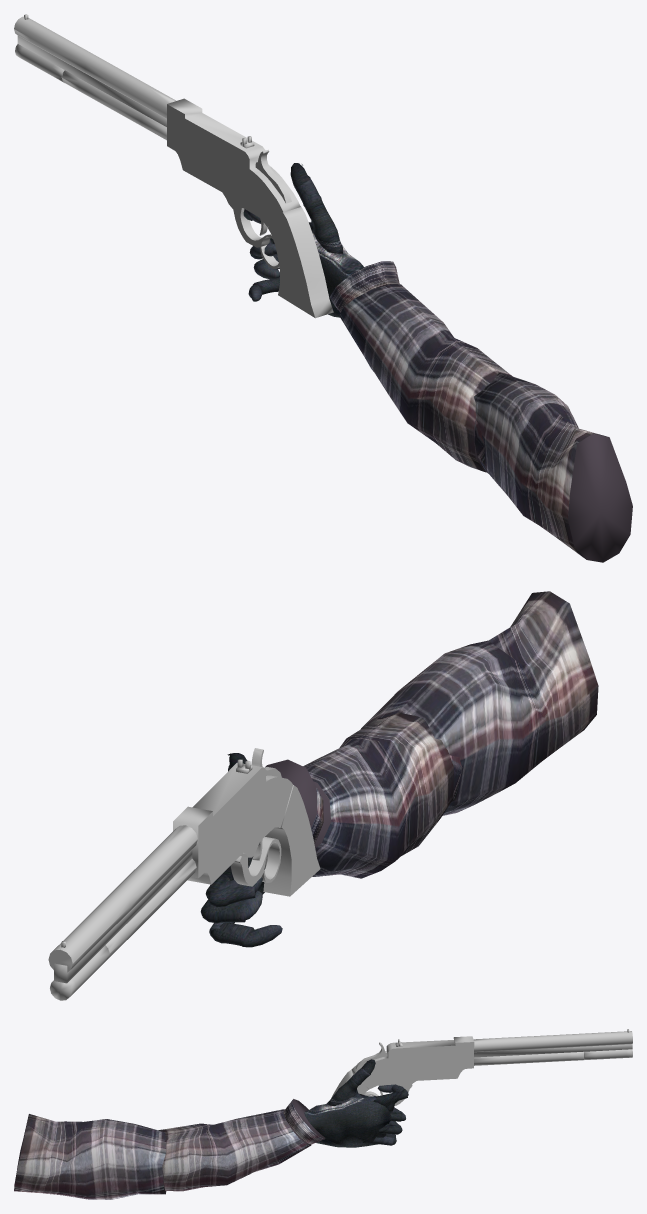
File: volcanic_view.fbx
3 views of the same model, one above another, from view 1: azimuth 30°, elevation 25°; view 2: azimuth 150°, elevation 25°; view 3: azimuth 270°, elevation 25° (orthographic). The views are drawn at different scales.
Visible parts, largest first — view 1: rupperarm, rforearm, volcanic_body, volcanic_barrel, volcanic_grip, rhand, rthumbback, volcanic_lever; view 2: rupperarm, rforearm, volcanic_barrel, volcanic_body, volcanic_grip, volcanic_lever, volcanic_magazinecap, rmfingermiddle, rifingermiddle, rpinkymiddle, rpinkyfront; view 3: rupperarm, rforearm, volcanic_body, volcanic_barrel, rhand, rthumbback, volcanic_magazinecap, rpfingerback.
Part boxes in pixels (x1=…): rupperarm: x1=474, y1=372, x2=632, y2=562; rforearm: x1=329, y1=261, x2=512, y2=472; volcanic_body: x1=167, y1=98, x2=300, y2=226; volcanic_barrel: x1=14, y1=16, x2=176, y2=140; volcanic_grip: x1=268, y1=206, x2=333, y2=318; rhand: x1=272, y1=233, x2=363, y2=317; rthumbback: x1=305, y1=200, x2=342, y2=253; volcanic_lever: x1=233, y1=208, x2=279, y2=268; rupperarm: x1=361, y1=591, x2=598, y2=815; rforearm: x1=265, y1=712, x2=453, y2=878; volcanic_barrel: x1=48, y1=825, x2=197, y2=983; volcanic_body: x1=173, y1=762, x2=292, y2=884; volcanic_grip: x1=263, y1=785, x2=320, y2=896; volcanic_lever: x1=230, y1=837, x2=281, y2=886; volcanic_magazinecap: x1=50, y1=945, x2=109, y2=1000; rmfingermiddle: x1=208, y1=880, x2=255, y2=907; rifingermiddle: x1=201, y1=900, x2=246, y2=923; rpinkymiddle: x1=210, y1=922, x2=254, y2=946; rpinkyfront: x1=240, y1=925, x2=282, y2=947; rupperarm: x1=14, y1=1114, x2=166, y2=1199; rforearm: x1=158, y1=1099, x2=325, y2=1191; volcanic_body: x1=351, y1=1036, x2=474, y2=1089; volcanic_barrel: x1=473, y1=1031, x2=632, y2=1065; rhand: x1=304, y1=1097, x2=391, y2=1147; rthumbback: x1=326, y1=1077, x2=376, y2=1106; volcanic_magazinecap: x1=584, y1=1049, x2=632, y2=1059; rpfingerback: x1=373, y1=1089, x2=407, y2=1113.
Bounding box in the file's own units: 6.64 × 9.87 × 39.21.
